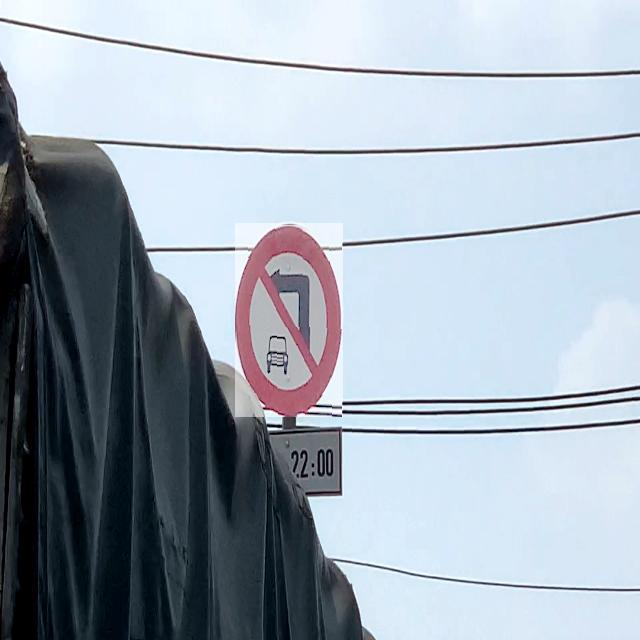P-103c: (236, 223, 344, 417)
